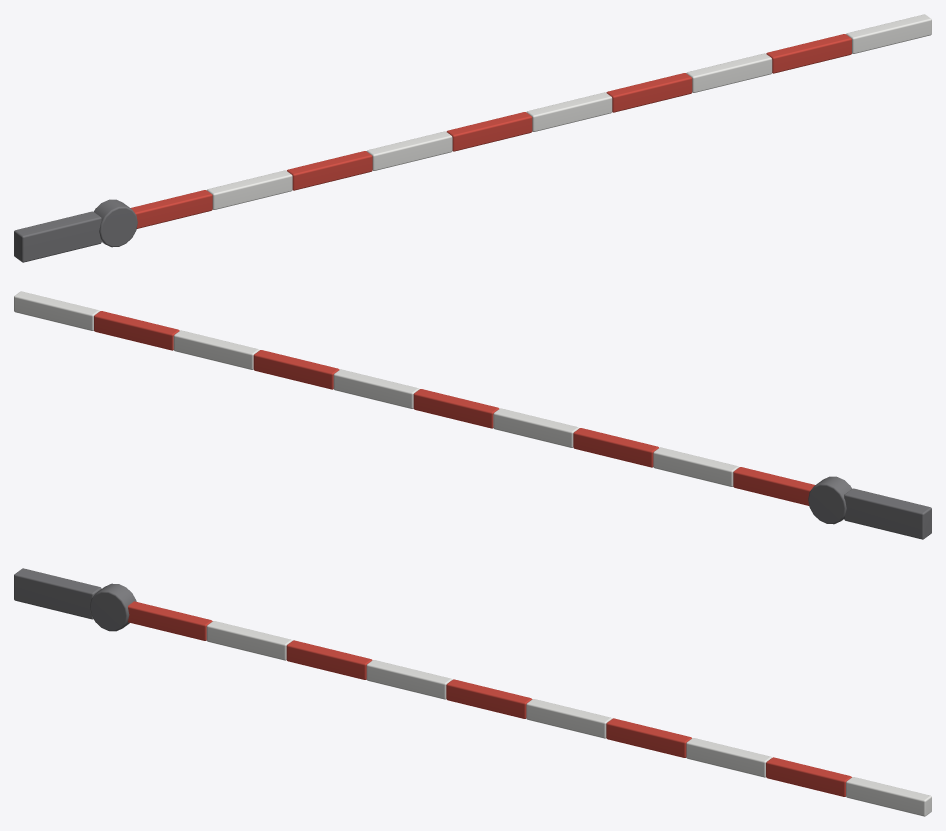
File: ferry_barrier_arm.glb
3 views of the same model, one above another, from view 1: azimuth 30°, elevation 25°; view 2: azimuth 150°, elevation 25°; view 3: azimuth 330°, elevation 25° (orthographic).
Parts seen in each view (by area): view 1: SM_ferry_barrier_arm; view 2: SM_ferry_barrier_arm; view 3: SM_ferry_barrier_arm.
Boxes of the visible parts, bbox=[...] form: SM_ferry_barrier_arm: bbox=[14, 14, 931, 262]; SM_ferry_barrier_arm: bbox=[14, 291, 931, 539]; SM_ferry_barrier_arm: bbox=[14, 568, 931, 816].
Bounding box in the file's own units: 5.7 × 0.24 × 0.12.
